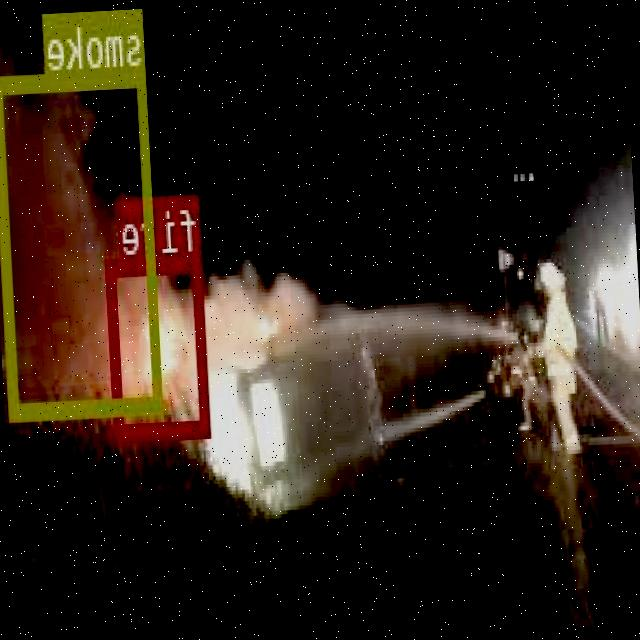fire: (109, 252, 212, 440)
smoke: (0, 68, 165, 417)
